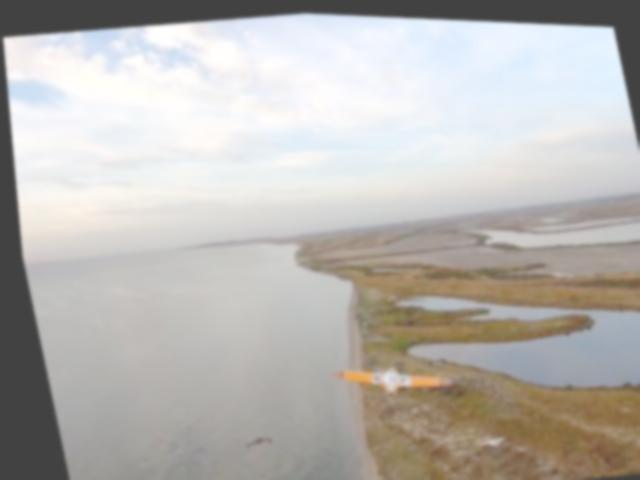uav: (322, 351, 448, 402), (229, 426, 270, 454), (466, 428, 503, 447)
